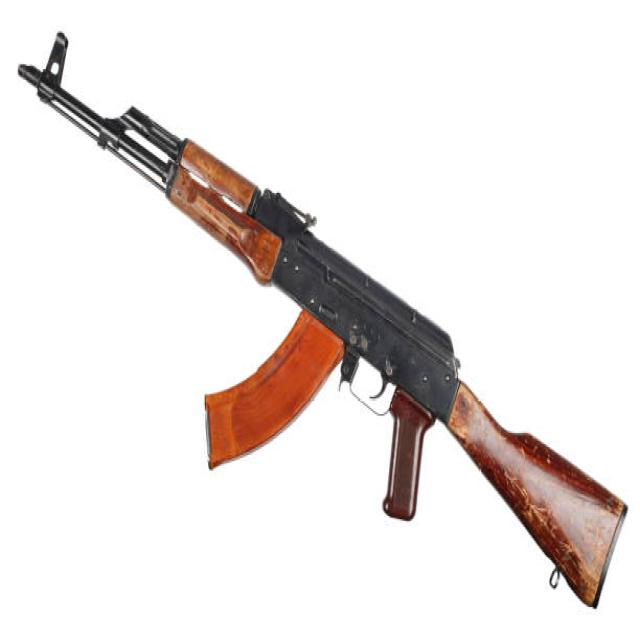rifle: (10, 20, 630, 625)
